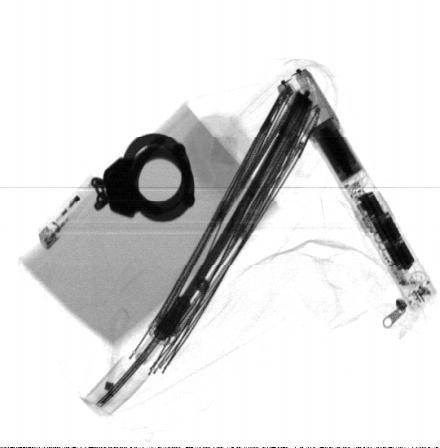Baton: (276, 67, 438, 315)
HandCuffs: (88, 133, 197, 222)
Lighter: (39, 175, 102, 249)
